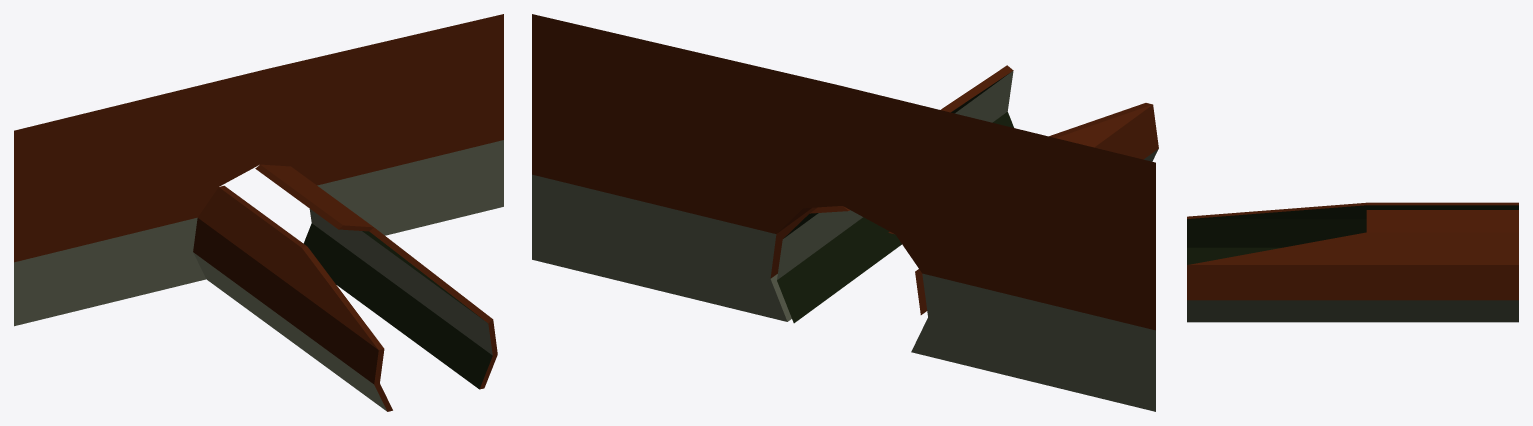
The model's file is tunel rozbitý kus.fbx.
3 views of the same model, side by side, from view 1: azimuth 30°, elevation 25°; view 2: azimuth 150°, elevation 25°; view 3: azimuth 270°, elevation 25° (orthographic). The views are drawn at different scales.
Visible parts, largest first — view 1: tunel rozbitý 2; view 2: tunel rozbitý 2; view 3: tunel rozbitý 2.
Boxes of the visible parts, x1,y1,x2,y2 form: tunel rozbitý 2: (14, 14, 503, 411); tunel rozbitý 2: (532, 14, 1158, 411); tunel rozbitý 2: (1187, 202, 1518, 322).
Size of the model in its own units: 3816 by 1457 by 2445.
